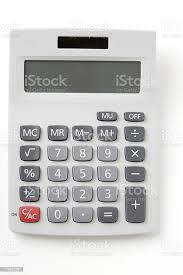Calculator: (5, 22, 168, 243)
